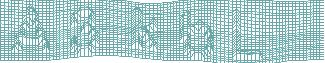3: (67, 5, 100, 57)
A: (11, 4, 54, 55)
L: (229, 8, 263, 62)
b: (178, 9, 215, 62)
k: (131, 5, 160, 52)
